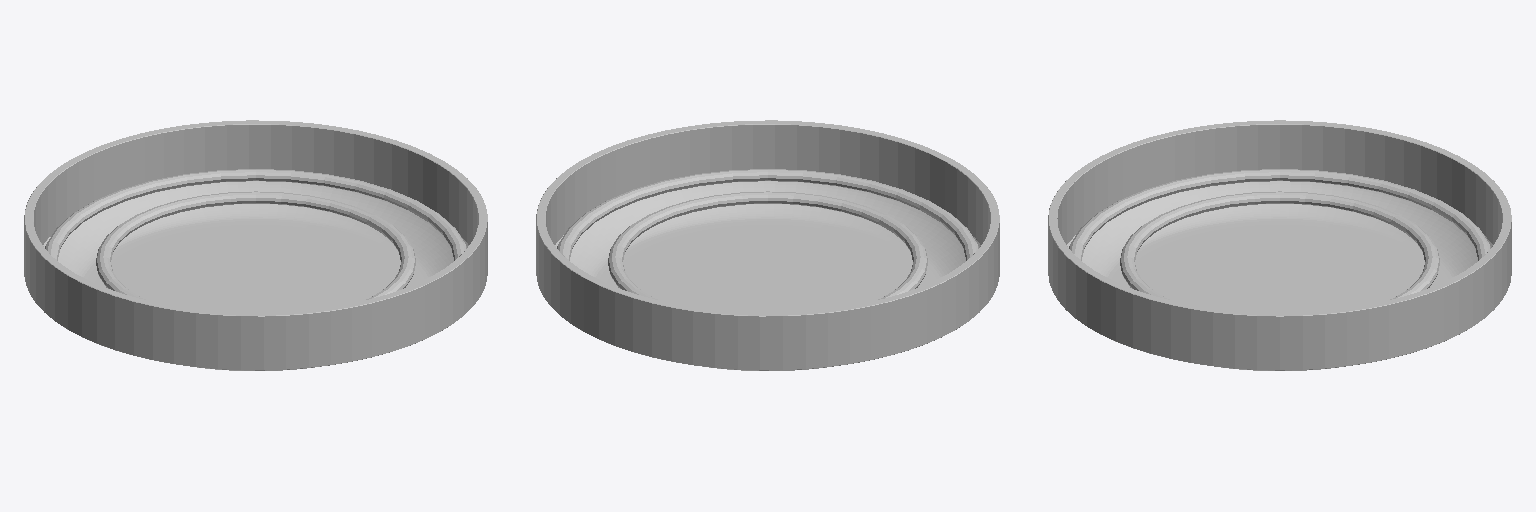
File: lamp-3.obj
3 views of the same model, side by side, from view 1: azimuth 30°, elevation 25°; view 2: azimuth 150°, elevation 25°; view 3: azimuth 270°, elevation 25° (orthographic).
Visible parts, largest first — view 1: Cylinder001, Cylinder002, Torus002; view 2: Cylinder001, Cylinder002, Torus002; view 3: Cylinder001, Cylinder002, Torus002.
Part boxes in pixels (bbox=[...]): Cylinder001: bbox=[24, 120, 487, 370]; Cylinder002: bbox=[43, 181, 468, 370]; Torus002: bbox=[45, 169, 466, 299]; Cylinder001: bbox=[536, 120, 999, 370]; Cylinder002: bbox=[555, 181, 980, 370]; Torus002: bbox=[557, 169, 978, 299]; Cylinder001: bbox=[1048, 120, 1511, 370]; Cylinder002: bbox=[1067, 181, 1492, 370]; Torus002: bbox=[1069, 169, 1490, 299].
Size of the model in its own units: 50 by 9 by 50.